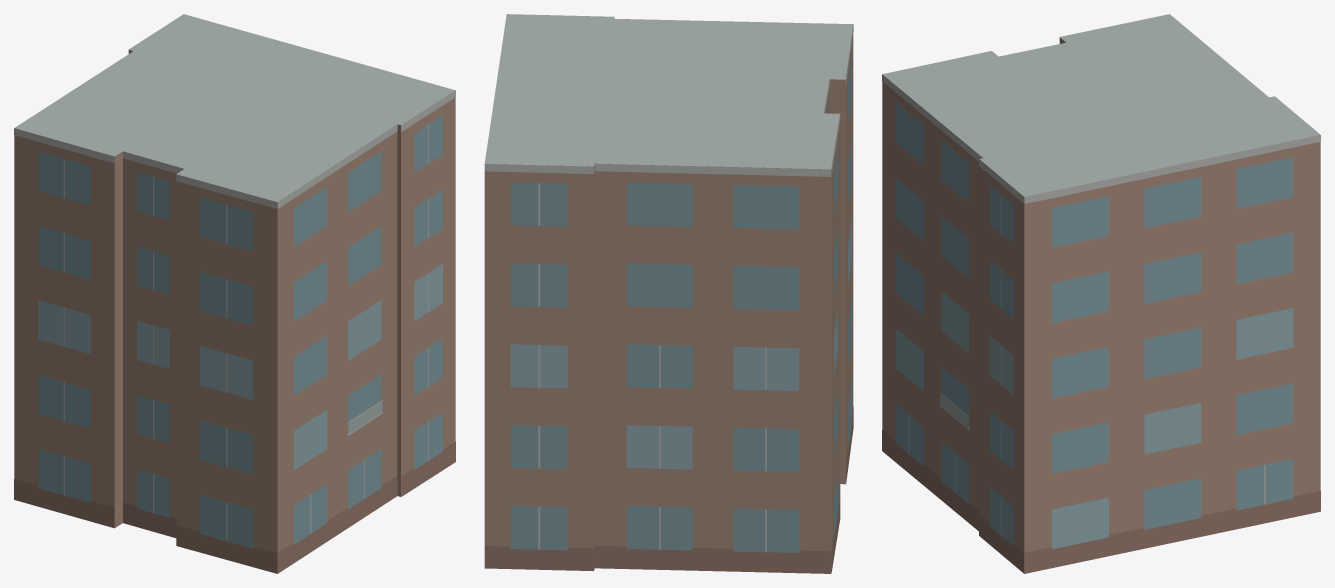
Rendered from survey-upis-32841632.glb.
3 views of the same model, side by side, from view 1: azimuth 30°, elevation 25°; view 2: azimuth 150°, elevation 25°; view 3: azimuth 270°, elevation 25° (orthographic). The views are drawn at different scales.
Visible parts, largest first — view 1: survey-upis-32841632.tmp; view 2: survey-upis-32841632.tmp; view 3: survey-upis-32841632.tmp.
Boxes of the visible parts, left/top/right/bottom form: survey-upis-32841632.tmp: left=14, top=14, right=455, bottom=573; survey-upis-32841632.tmp: left=484, top=14, right=853, bottom=573; survey-upis-32841632.tmp: left=882, top=14, right=1320, bottom=573.
Size of the model in its own units: 13.66 by 13.1 by 13.83.
